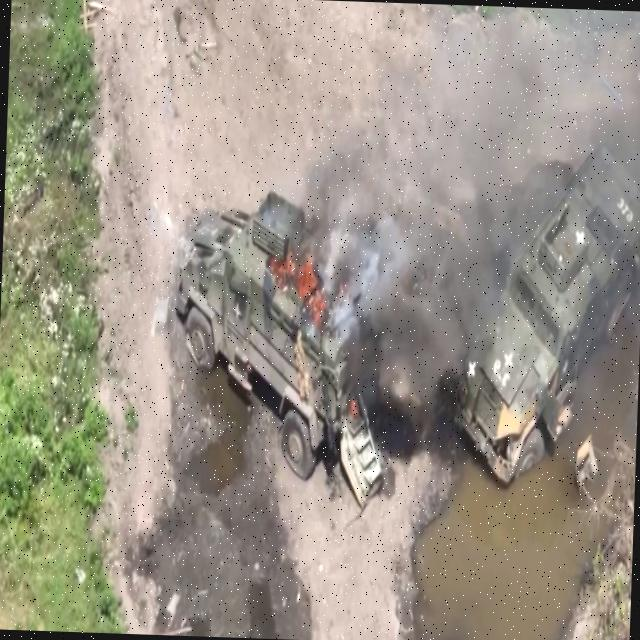Destroyed: (170, 186, 398, 504)
Vehicle: (447, 143, 640, 492)
